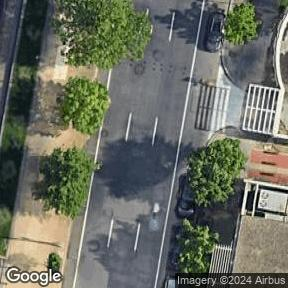vegetation: (181, 135, 254, 210), (31, 140, 97, 219), (56, 75, 113, 136), (173, 221, 220, 277), (223, 2, 256, 45)
